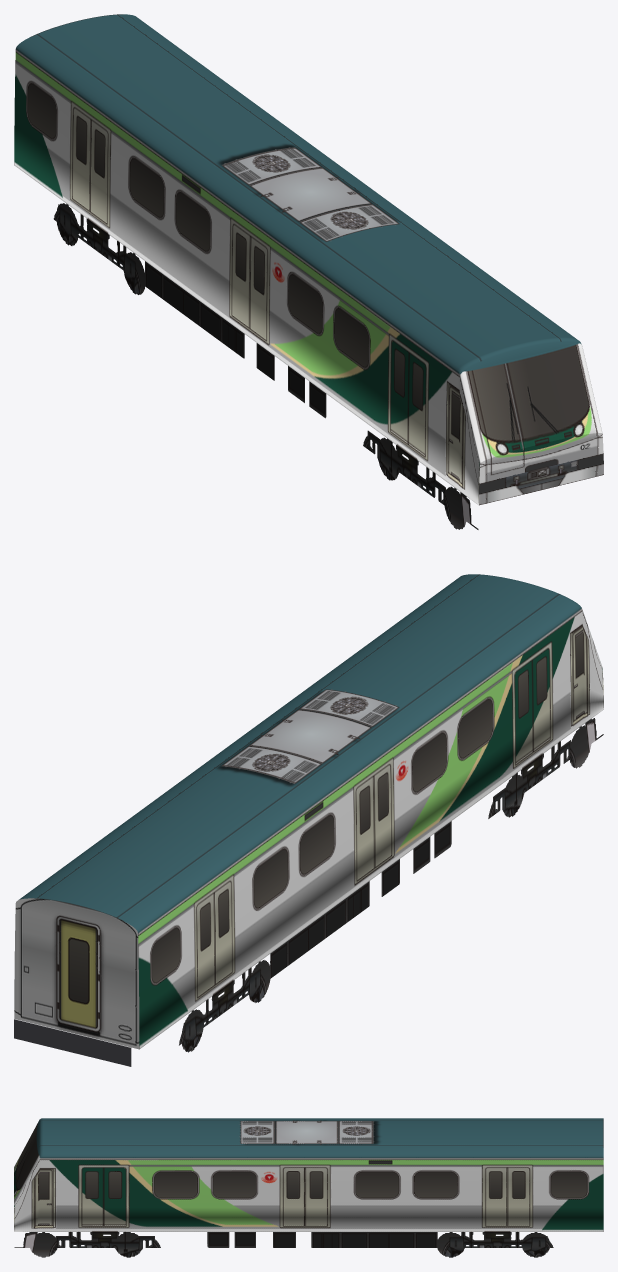
The model's file is car1.glb.
3 renders of one model, top to bottom at view 1: azimuth 30°, elevation 25°; view 2: azimuth 150°, elevation 25°; view 3: azimuth 270°, elevation 25°, orthographic. The views are drawn at different scales.
Visible parts, largest first — view 1: tokyu7000-car1; view 2: tokyu7000-car1; view 3: tokyu7000-car1.
Part boxes in pixels (box(x1,y1,x2,y2)): tokyu7000-car1: box(14, 14, 603, 529); tokyu7000-car1: box(14, 574, 603, 1066); tokyu7000-car1: box(14, 1118, 603, 1257).
Bounding box in the file's own units: 2.8 × 3.62 × 18.01.
Materials: 7 (6 with a texture image).
